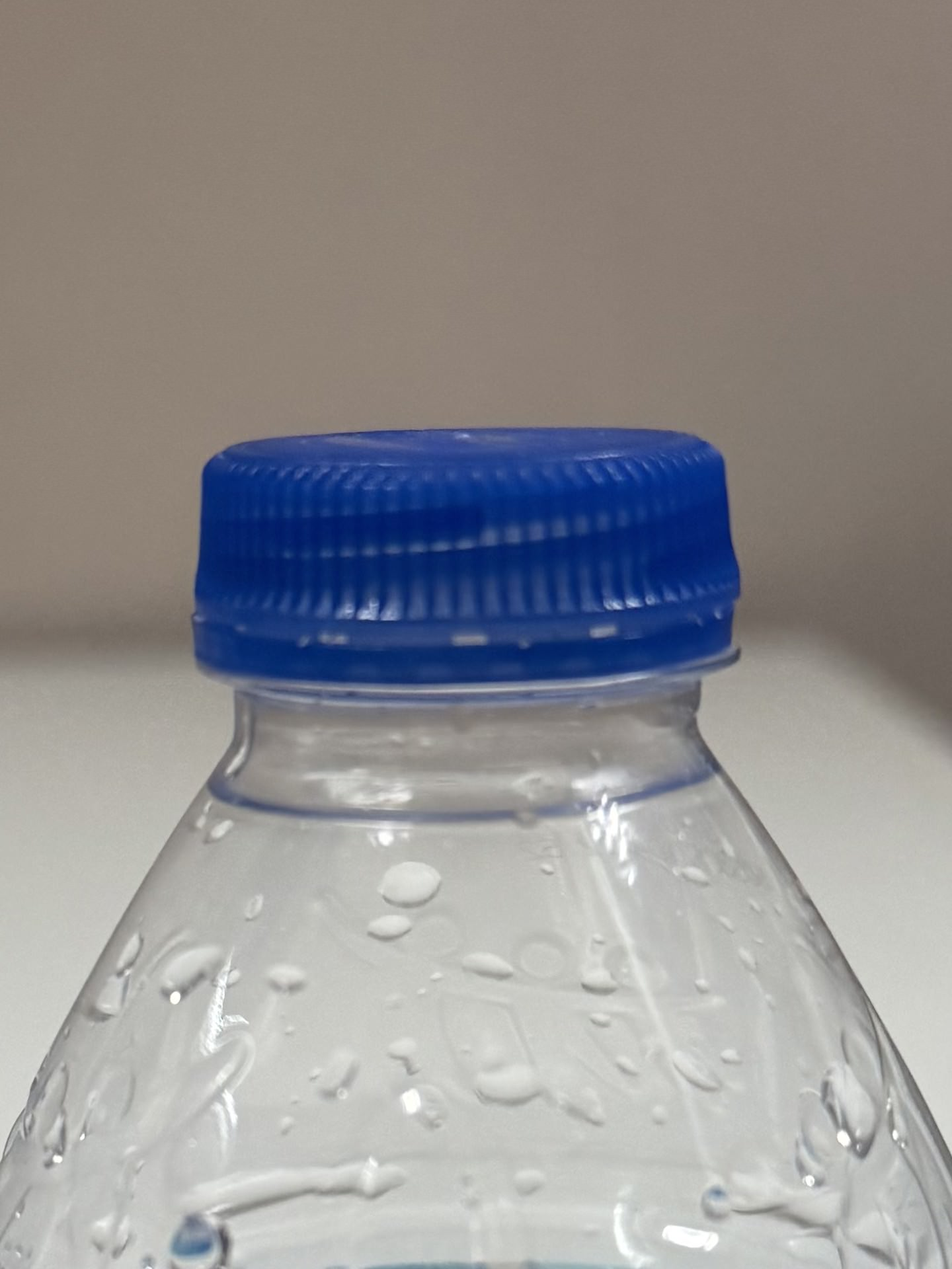closed_cap: (189, 422, 745, 695)
